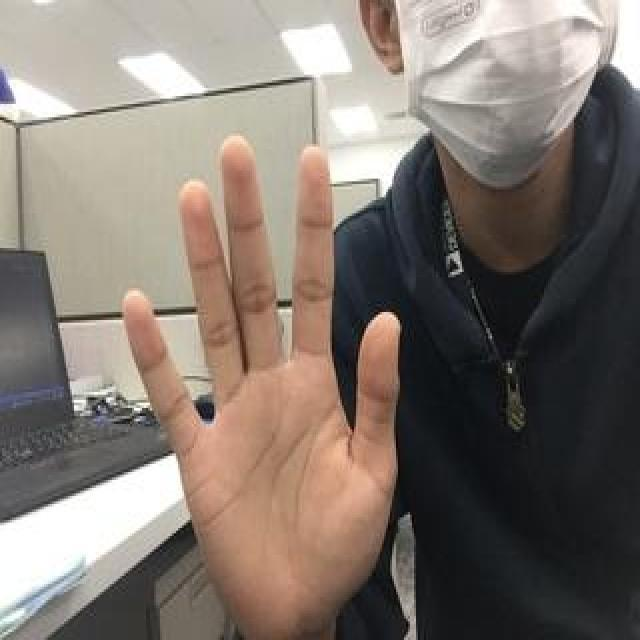hand: (118, 133, 402, 640)
